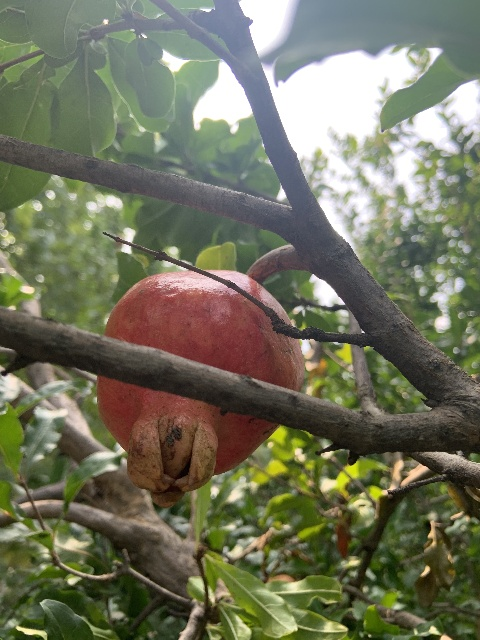ripe: (93, 268, 306, 503)
